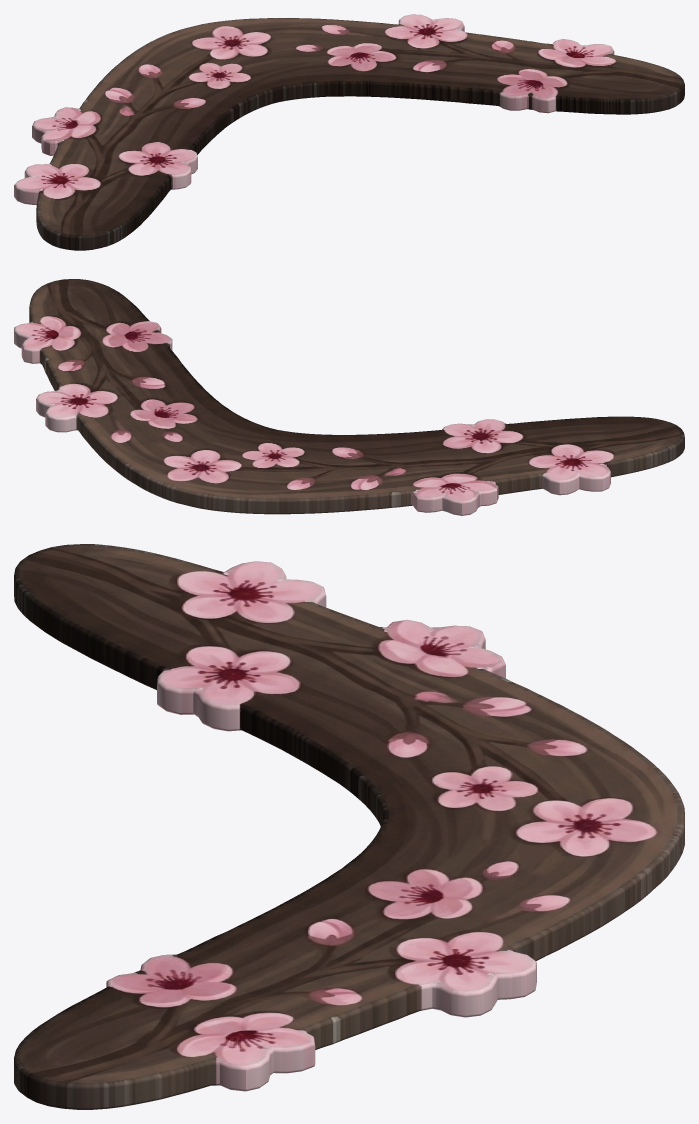
File: Boomerang_53.fbx
3 views of the same model, one above another, from view 1: azimuth 30°, elevation 25°; view 2: azimuth 150°, elevation 25°; view 3: azimuth 270°, elevation 25° (orthographic). The views are drawn at different scales.
Parts seen in each view (by area): view 1: Boomerang_53; view 2: Boomerang_53; view 3: Boomerang_53.
Boxes of the visible parts, x1,y1,x2,y2 form: Boomerang_53: [14, 14, 684, 250]; Boomerang_53: [14, 279, 684, 515]; Boomerang_53: [14, 544, 684, 1109].
Size of the model in its own units: 201 by 4.4 by 105.
Materials: 1 (1 with a texture image).
